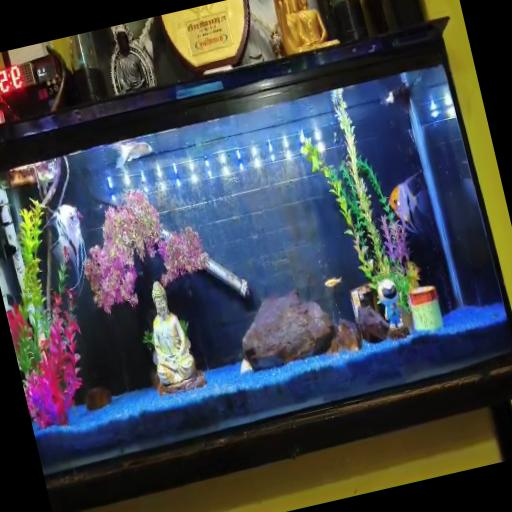Fish: (52, 205, 86, 289), (388, 173, 430, 233), (388, 173, 428, 233), (380, 77, 419, 113), (115, 141, 152, 169), (324, 278, 340, 288)
